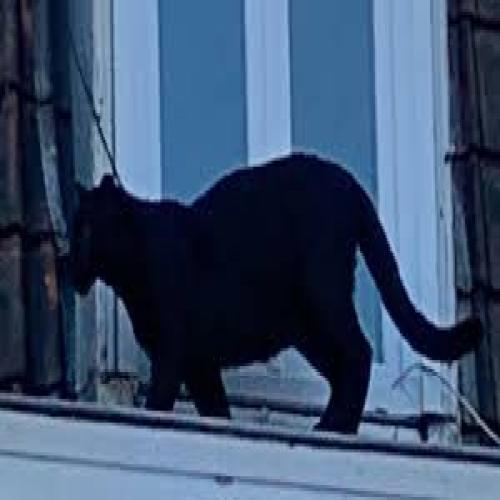panther-endangered: (73, 157, 482, 434)
